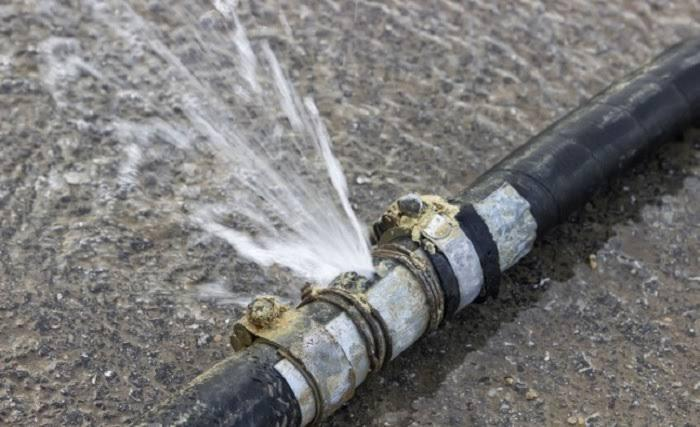pipe burst: (47, 0, 385, 295)
